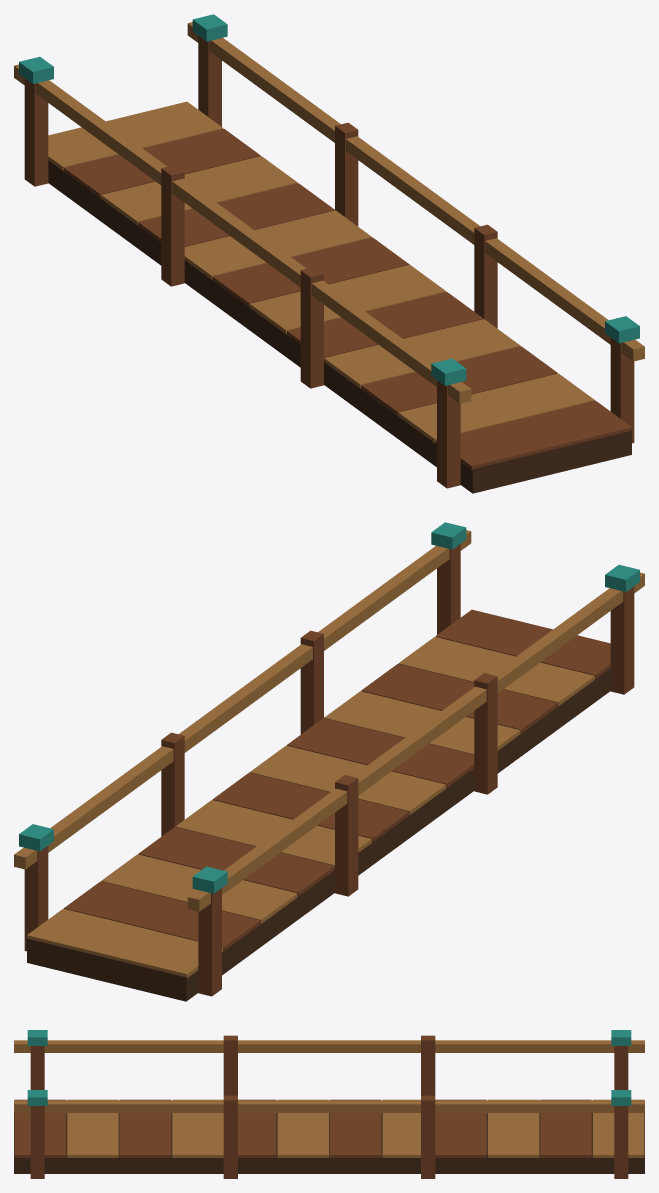
File: Tropical_LagoonBridge_Standard.glb
3 renders of one model, top to bottom at view 1: azimuth 30°, elevation 25°; view 2: azimuth 150°, elevation 25°; view 3: azimuth 270°, elevation 25°, orthographic. The views are drawn at different scales.
Parts seen in each view (by area): view 1: Tropical_LagoonBridge_Standard; view 2: Tropical_LagoonBridge_Standard; view 3: Tropical_LagoonBridge_Standard.
Boxes of the visible parts, box(x1,y1,x2,y2) form: Tropical_LagoonBridge_Standard: box(14, 14, 644, 493); Tropical_LagoonBridge_Standard: box(14, 522, 644, 1001); Tropical_LagoonBridge_Standard: box(14, 1030, 644, 1178).
Size of the model in its own units: 2.02 by 1.16 by 8.
